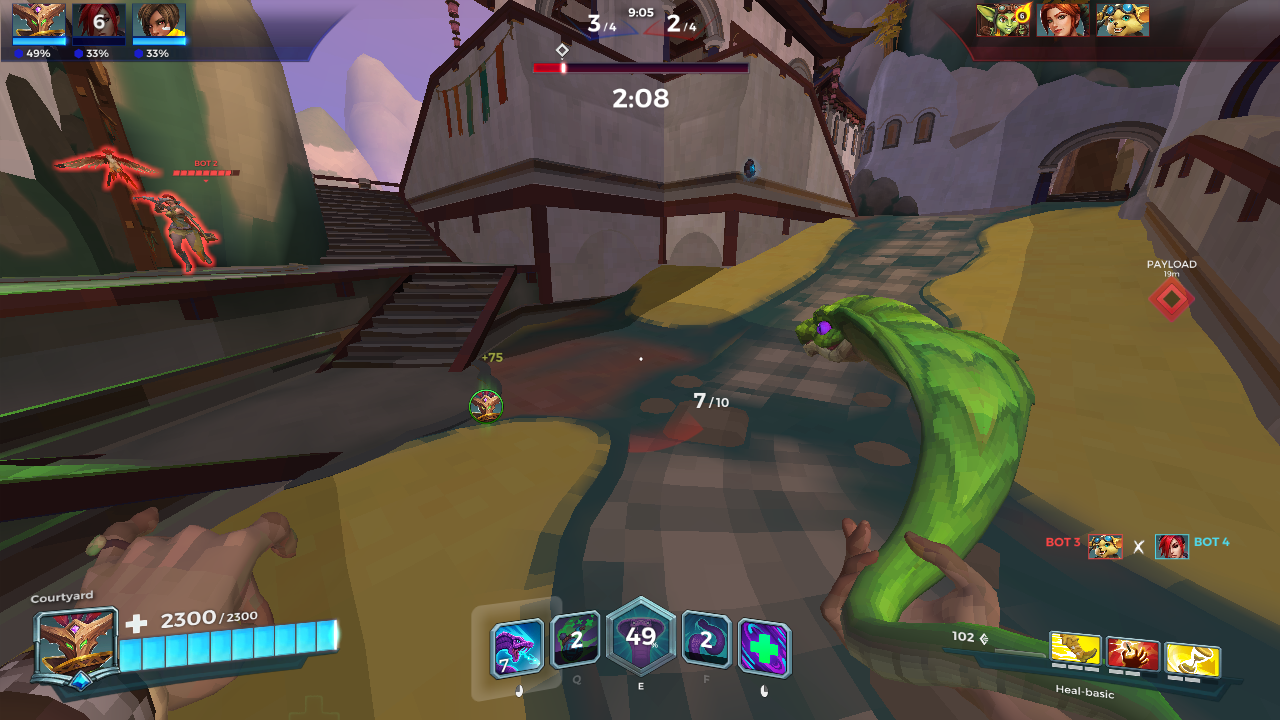model: (145, 184, 214, 277)
